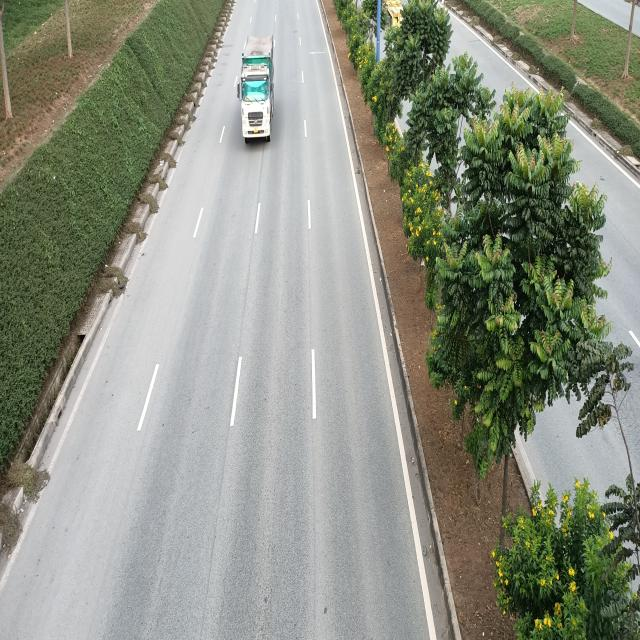truck: (238, 36, 276, 143)
